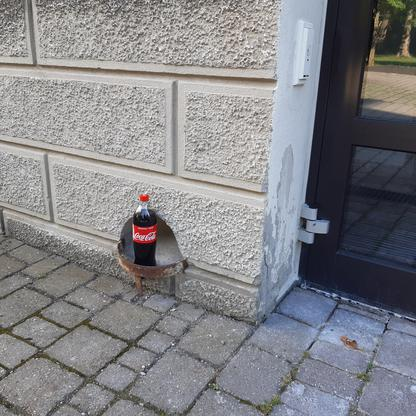coca-cola: (130, 193, 159, 269)
